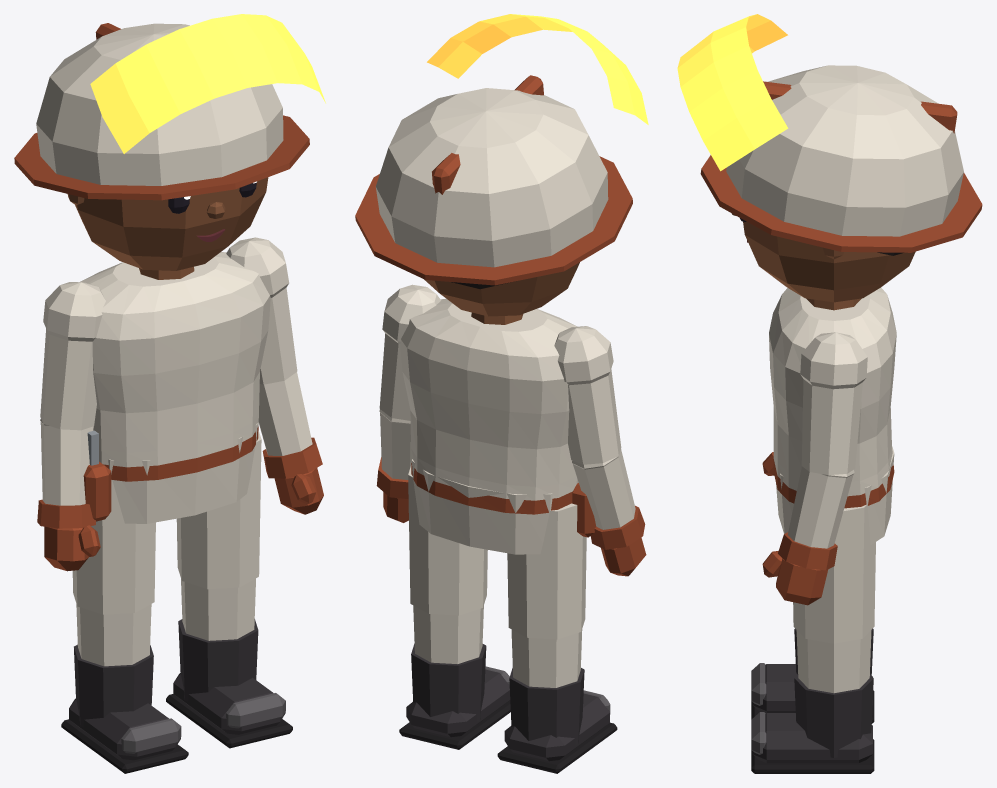
Rendered from emb-n1.glb.
3 renders of one model, left to right at view 1: azimuth 30°, elevation 25°; view 2: azimuth 150°, elevation 25°; view 3: azimuth 270°, elevation 25°, orthographic. The views are drawn at different scales.
Parts seen in each view (by area): view 1: kopfbedeckung, torso, arm_r, bein_l, bein_r, kopf, schuh_l, schuh_r, arm_l, becken, hand_r, accessoire_toolpouch (+2 smaller); view 2: kopfbedeckung, torso, bein_r, arm_r, bein_l, schuh_r, schuh_l, becken, arm_l, kopf, hand_r, accessoire_toolpouch (+1 smaller); view 3: kopfbedeckung, torso, arm_l, bein_l, schuh_l, kopf, schuh_r, hand_l, becken.
Part boxes in pixels (<box>): kopfbedeckung: <box>14,14,325,200</box>; torso: <box>79,252,270,481</box>; arm_r: <box>37,282,105,528</box>; bein_l: <box>176,430,261,640</box>; bein_r: <box>72,480,155,666</box>; kopf: <box>67,177,268,270</box>; schuh_l: <box>166,619,292,748</box>; schuh_r: <box>61,644,188,773</box>; arm_l: <box>226,237,322,478</box>; becken: <box>108,423,257,523</box>; hand_r: <box>44,525,100,571</box>; accessoire_toolpouch: <box>83,430,111,521</box>; kopfbedeckung: <box>355,14,648,285</box>; torso: <box>400,298,578,514</box>; bein_r: <box>507,503,586,687</box>; arm_r: <box>554,326,645,549</box>; bein_l: <box>408,465,487,663</box>; schuh_r: <box>497,667,617,773</box>; schuh_l: <box>399,643,510,749</box>; becken: <box>412,459,553,554</box>; arm_l: <box>376,284,440,499</box>; kopf: <box>424,262,579,316</box>; hand_r: <box>601,537,646,576</box>; accessoire_toolpouch: <box>572,483,596,537</box>; kopfbedeckung: <box>677,14,982,252</box>; torso: <box>769,287,896,508</box>; arm_l: <box>778,332,867,570</box>; bein_l: <box>793,504,875,693</box>; schuh_l: <box>751,674,874,773</box>; kopf: <box>743,221,915,302</box>; schuh_r: <box>751,628,874,723</box>; hand_l: <box>762,551,828,605</box>; becken: <box>776,446,894,544</box>.
Bounding box in the file's own units: 0.0109 × 0.0275 × 0.0107.
